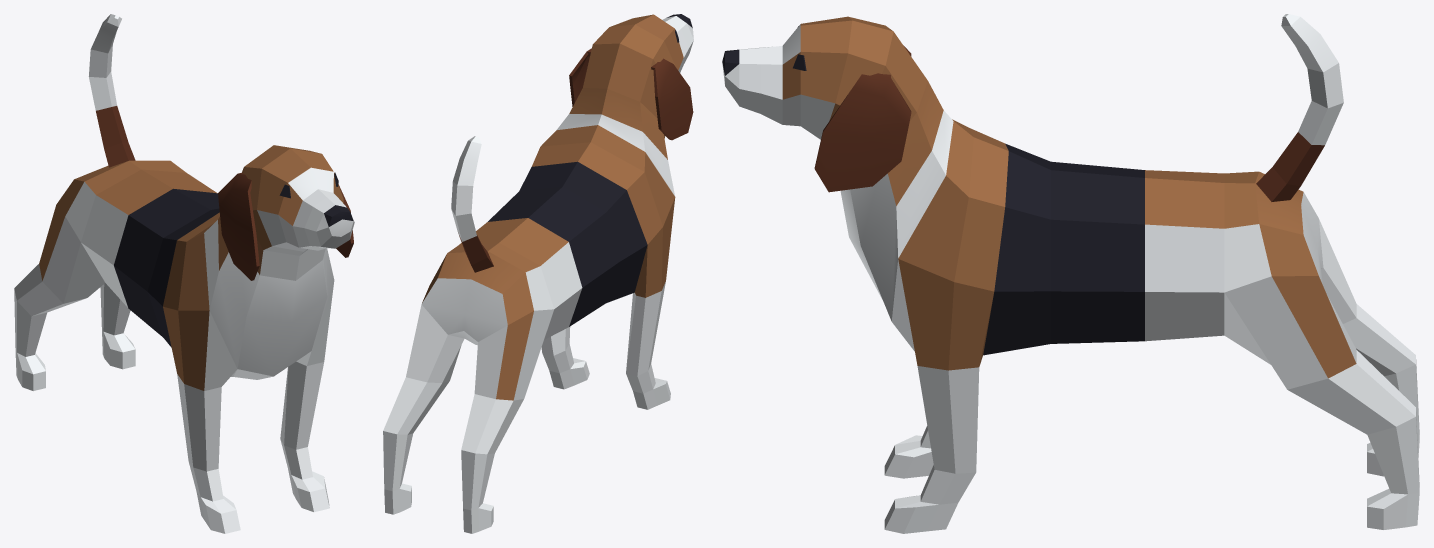
File: Mesh_Beagle.obj
3 views of the same model, side by side, from view 1: azimuth 30°, elevation 25°; view 2: azimuth 150°, elevation 25°; view 3: azimuth 270°, elevation 25° (orthographic). The views are drawn at different scales.
Visible parts, largest first — view 1: Geo_Beagle; view 2: Geo_Beagle; view 3: Geo_Beagle.
Part boxes in pixels (x1,y1,x2,y2): Geo_Beagle: [14, 14, 354, 533]; Geo_Beagle: [383, 14, 693, 533]; Geo_Beagle: [722, 14, 1419, 533].
Size of the model in its own units: 30.18 by 78.26 by 102.
Materials: 1 (1 with a texture image).
